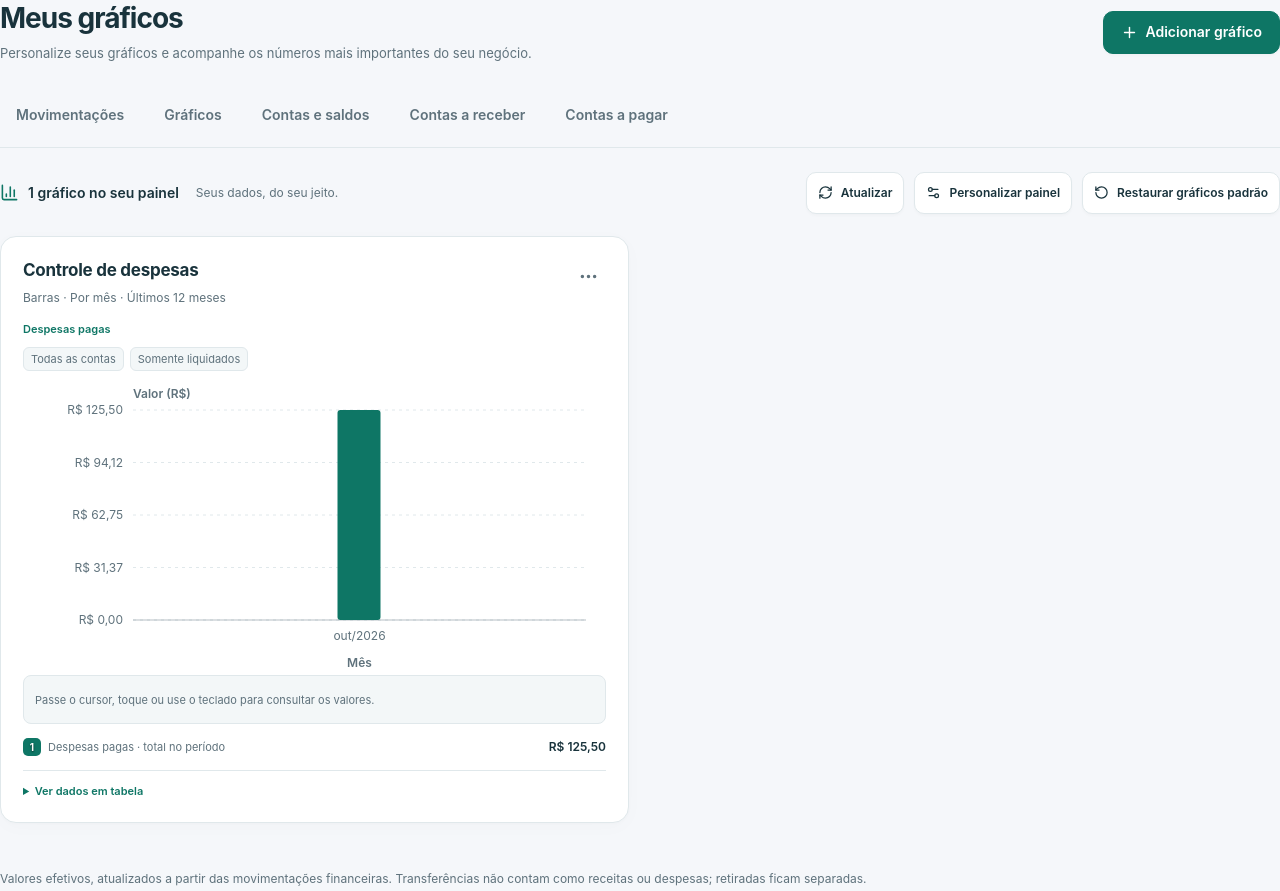
Test: saved chart panel › deletes only after confirmation and refreshes the saved panel
Click the button named "Ações de Controle de despesas" at (588, 277), box [570,259,606,295]
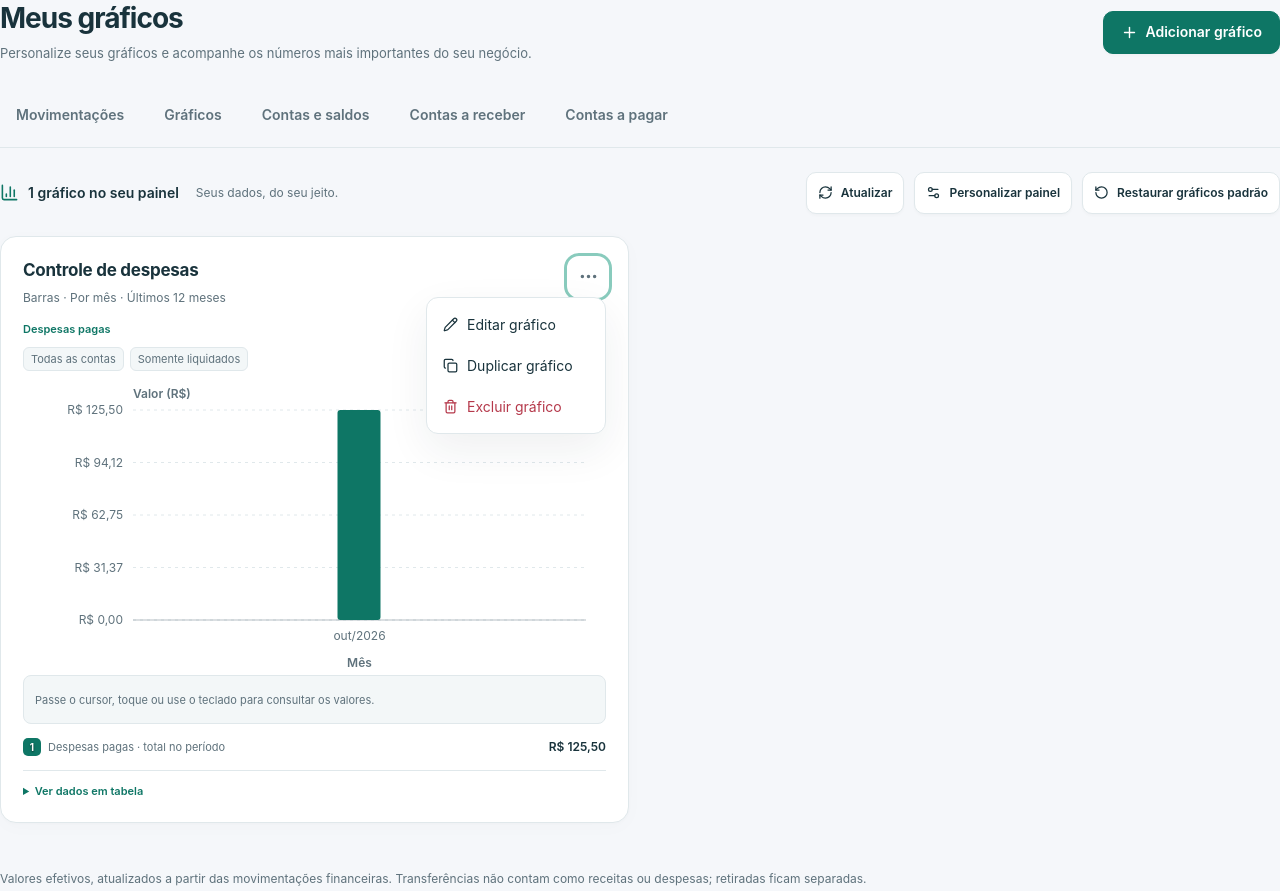
Click the button "Excluir gráfico" at (516, 406), box [433,386,599,427]
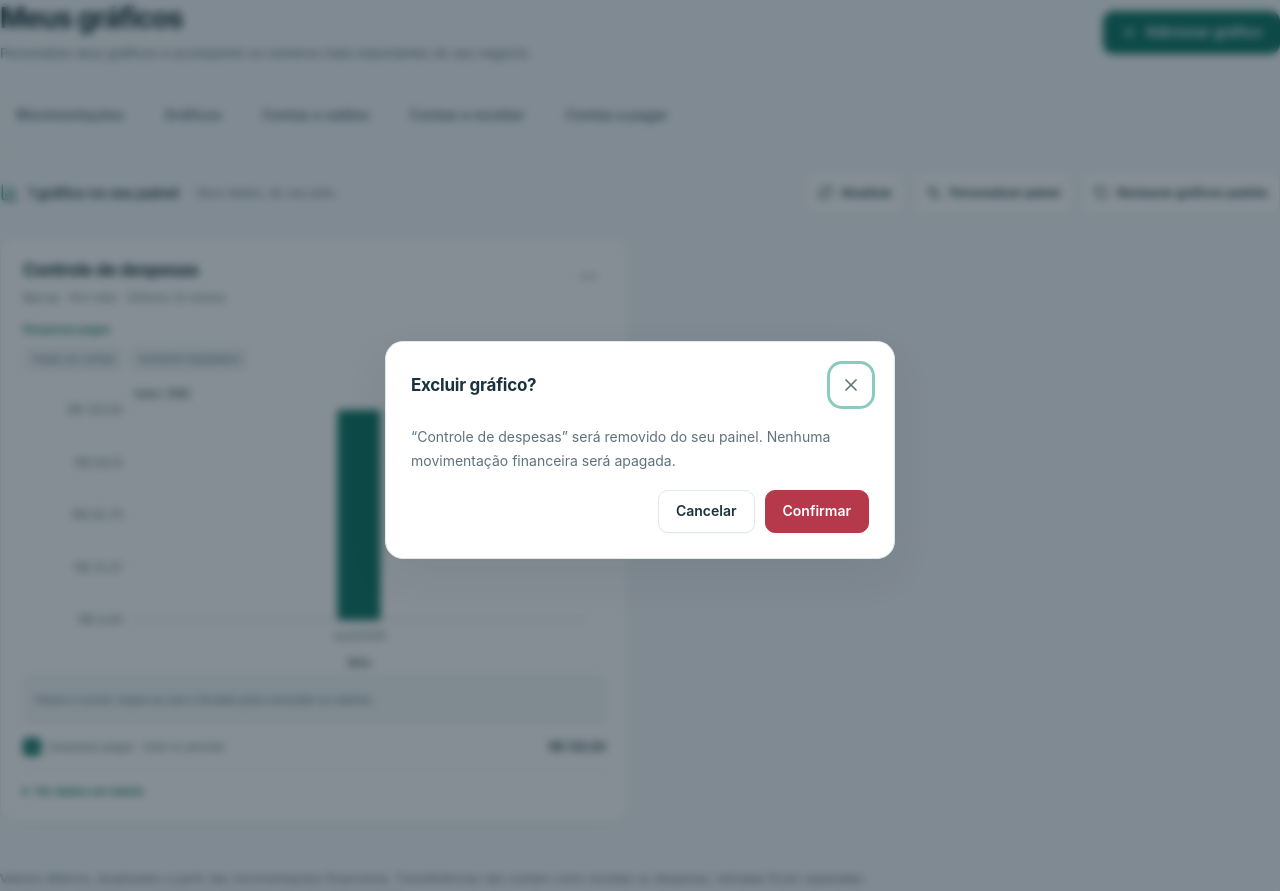
Click the button "Confirmar" at (817, 511), box [764,490,869,532]
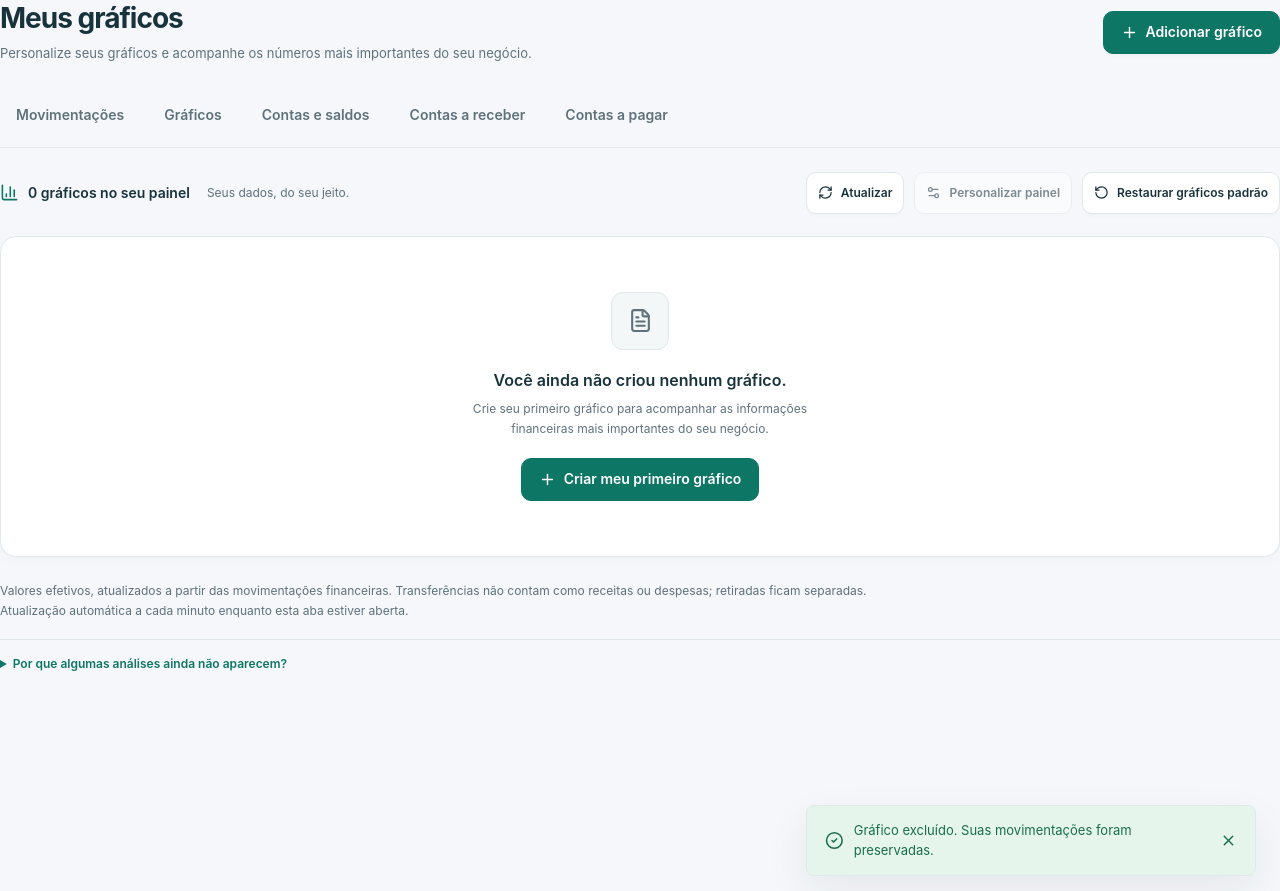
Check: the heading "Você ainda não criou nenhum gráfico." is shown, box [494,370,787,390]
